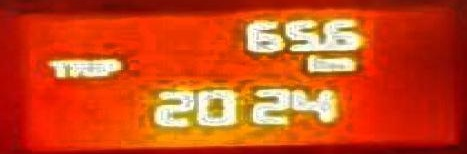-: (316, 42, 323, 51)
0: (194, 86, 236, 127)
2: (245, 86, 287, 126), (150, 87, 192, 127)
4: (289, 87, 336, 123)
5: (283, 17, 318, 52)
6: (241, 17, 283, 52), (323, 17, 358, 51)
X: (300, 52, 325, 72), (325, 56, 354, 72), (67, 58, 89, 77), (45, 58, 67, 77), (101, 57, 121, 76), (90, 58, 101, 77)
